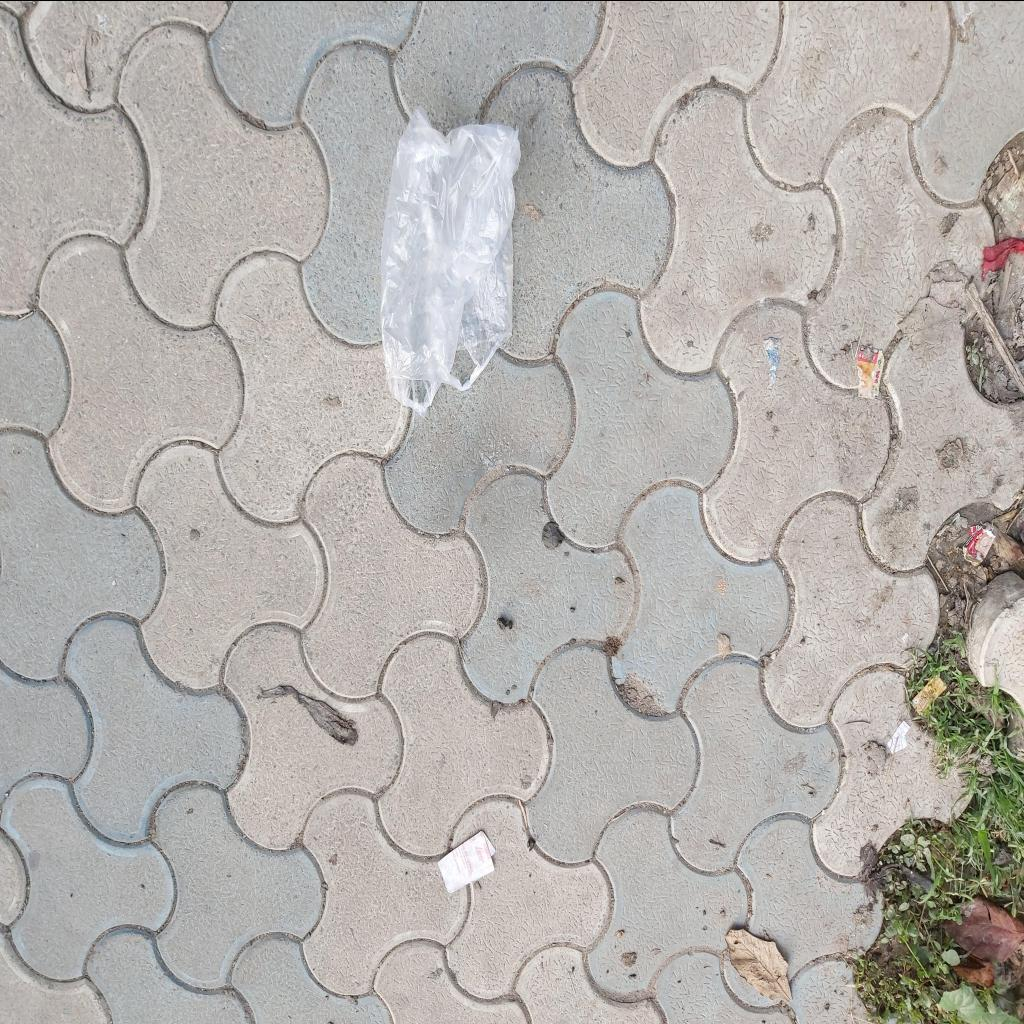Normal paper: (438, 829, 496, 891)
Other carton: (856, 345, 886, 398), (886, 718, 912, 752)
Other plastic: (910, 674, 948, 716), (962, 524, 996, 567)
Single-use carrier bag: (380, 103, 522, 417)
Unlabeled litter: (764, 336, 781, 386)
